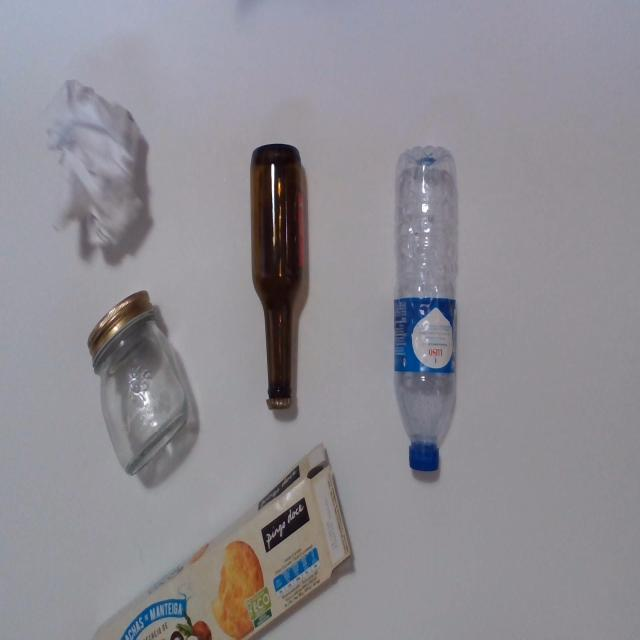Cardboard: (75, 449, 354, 640)
Glass: (99, 313, 193, 488), (252, 136, 301, 408)
Paper: (47, 74, 153, 262)
Plastic: (395, 147, 455, 478)
